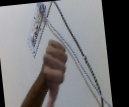hand: (40, 37, 68, 107)
